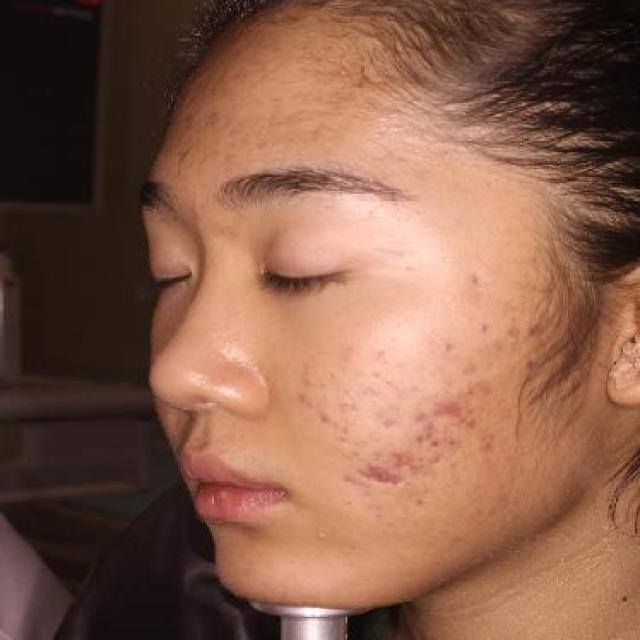Acne: (369, 464, 398, 490)
Whiteheads: (469, 316, 494, 338), (455, 383, 481, 402)
